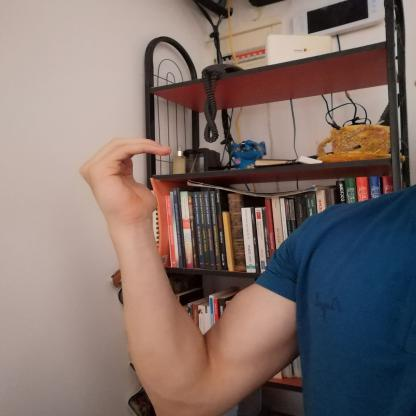HAA: (69, 131, 187, 229)
